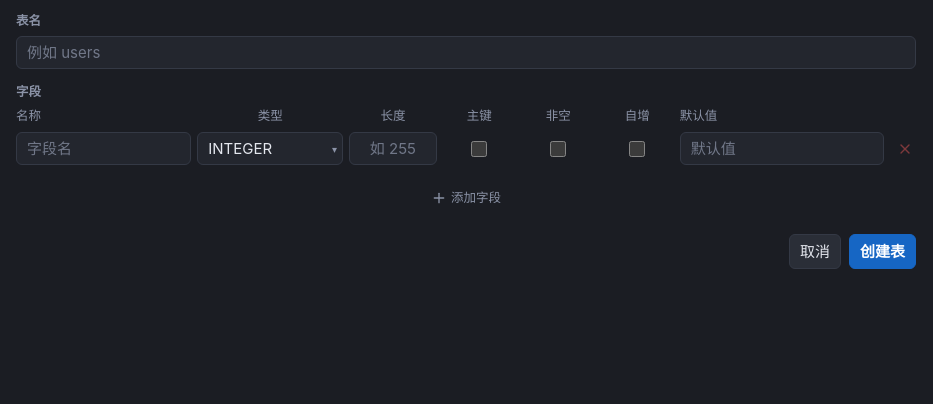
Scenario: 类型下拉 combobox › 点击箭头展开类型列表
Click the button with class "type-toggle": (335, 149) [328,142,341,156]
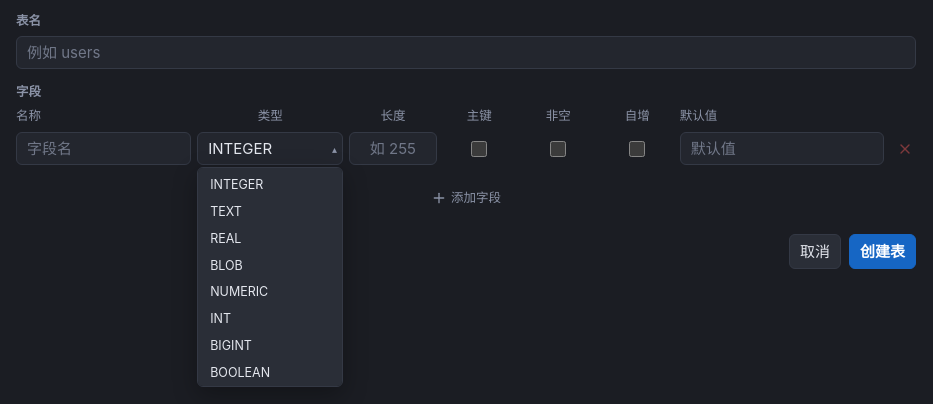
Expected: the list with class "type-list" is shown, [197,167,343,387]
